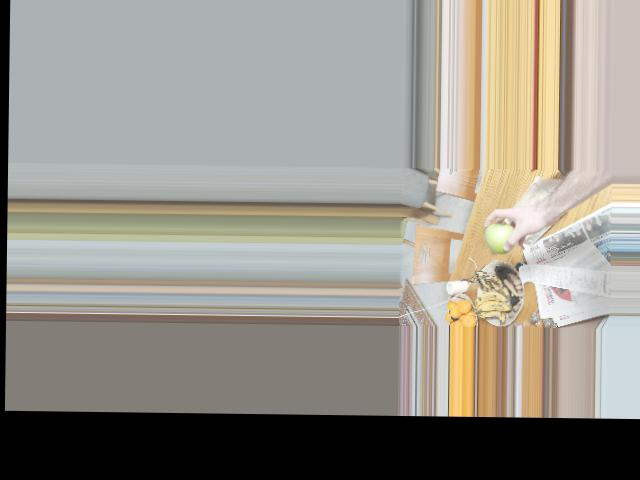apple: (483, 222, 520, 252)
